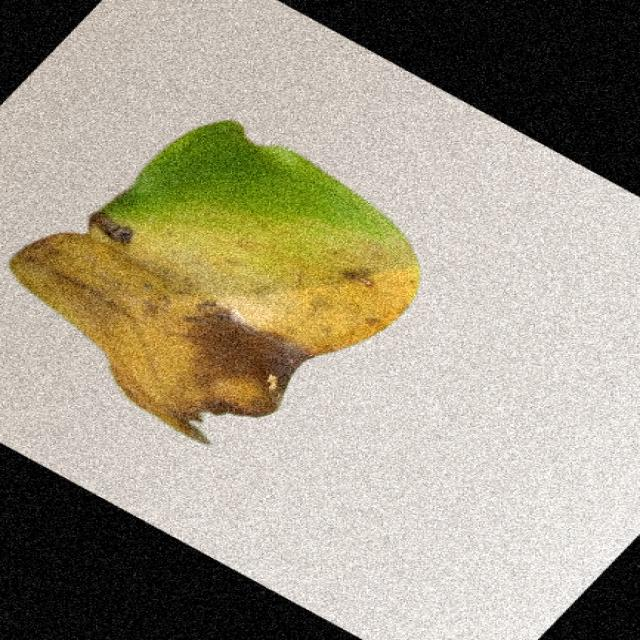daun berpenyakit kuning: (10, 121, 420, 442)
